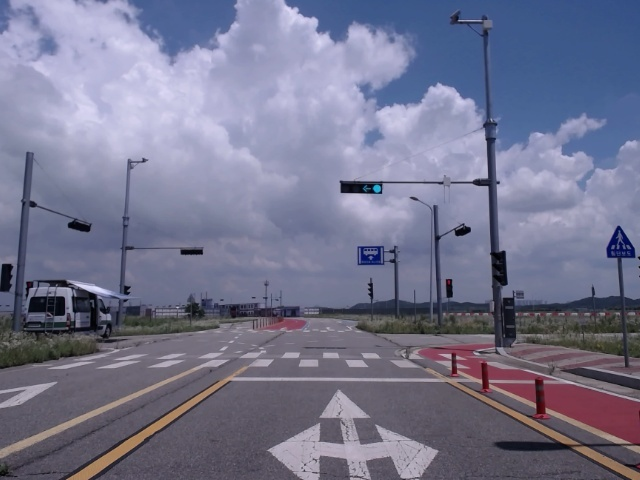all_green_4: (338, 179, 384, 196)
